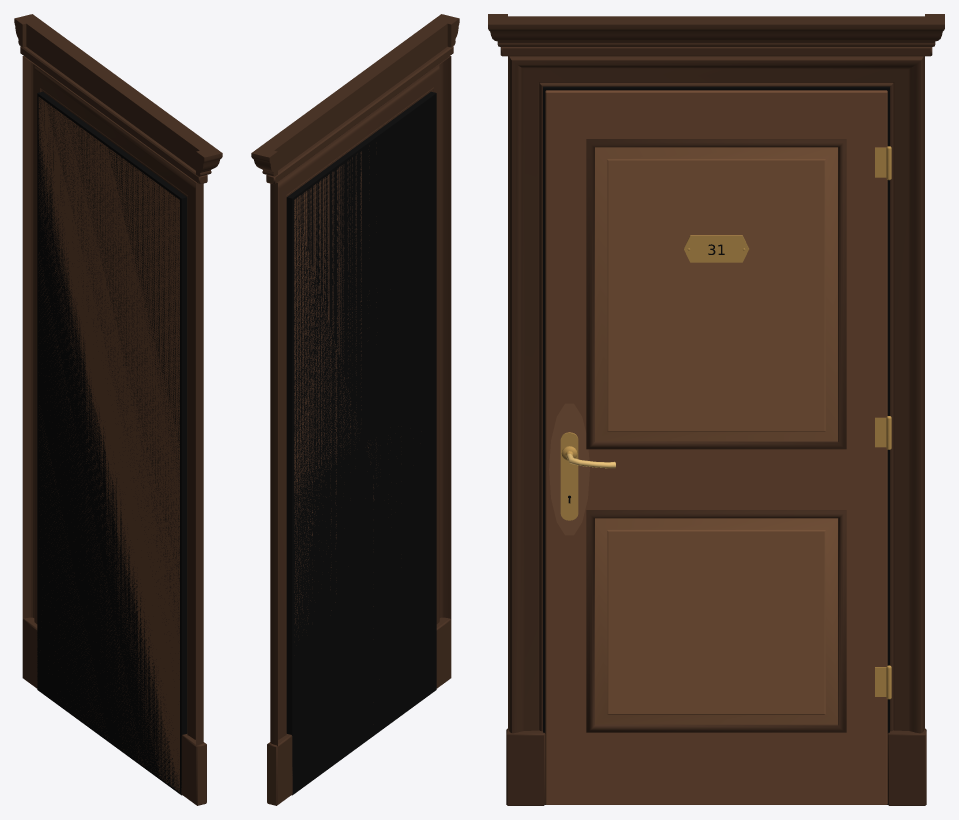
File: hotel_door_c.glb
The picture shows the model from 3 angles, left to right: view 1: azimuth 30°, elevation 25°; view 2: azimuth 150°, elevation 25°; view 3: azimuth 270°, elevation 25°; orthographic projection. The views are drawn at different scales.
Visible parts, largest first — view 1: fuge, blatt, bekleidung, verdachung; view 2: fuge, bekleidung, blatt, verdachung; view 3: fuellungen, blatt, bekleidung, verdachung, kehlleisten, fuge, beschlag, abrieb, nummernschild.
Part boxes in pixels (x1,y1,x2,y2): fuge: (37, 91, 187, 795); blatt: (38, 97, 179, 792); bekleidung: (22, 56, 206, 805); verdachung: (14, 14, 222, 184); fuge: (286, 91, 436, 795); bekleidung: (267, 56, 451, 805); blatt: (294, 151, 376, 627); verdachung: (251, 14, 459, 184); fuellungen: (595, 147, 837, 724); blatt: (545, 90, 887, 804); bekleidung: (506, 56, 926, 805); verdachung: (488, 14, 944, 56); kehlleisten: (586, 139, 846, 732); fuge: (543, 86, 889, 804); beschlag: (560, 146, 891, 699); abrieb: (549, 403, 589, 535); nummernschild: (684, 235, 748, 262).
Bounding box in the file's own units: 0.1118 × 2.33 × 1.23.
